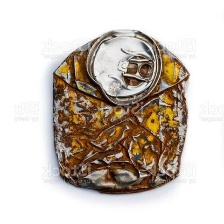can: (47, 26, 193, 199)
